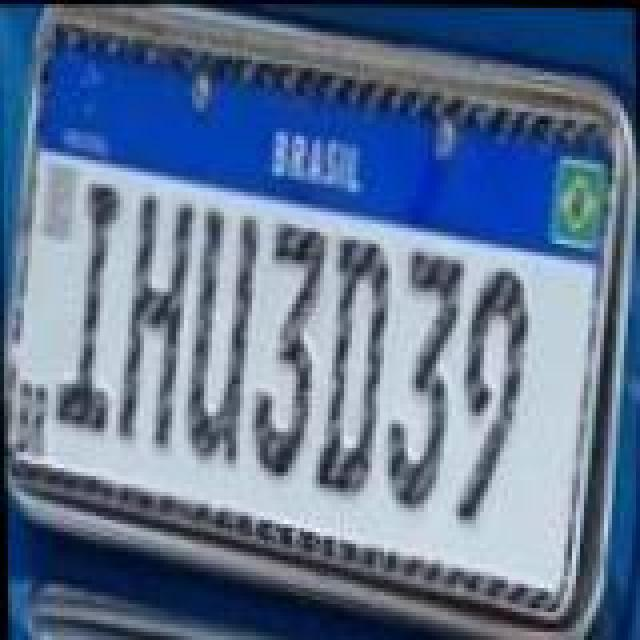3: (382, 244, 470, 512), (248, 216, 332, 480)
9: (446, 262, 538, 530)
D: (306, 232, 394, 496)
H: (114, 190, 202, 450)
I: (50, 182, 130, 438)
U: (182, 200, 270, 464)
